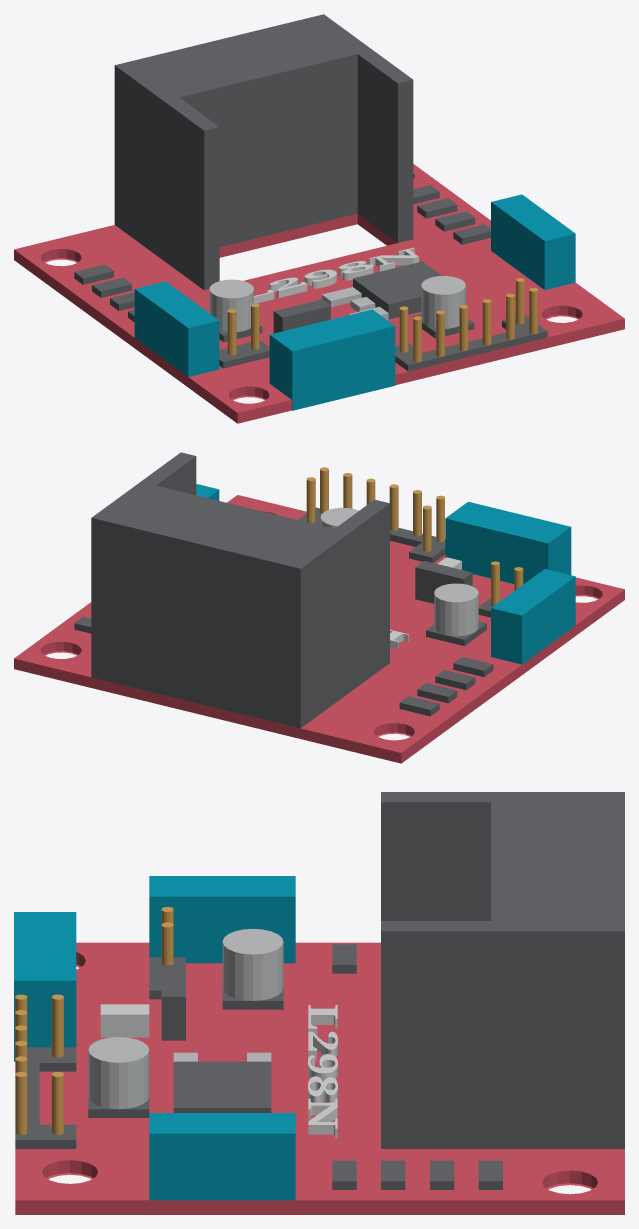
Rendered from motor_drive.glb.
The picture shows the model from 3 angles, top to bottom: view 1: azimuth 30°, elevation 25°; view 2: azimuth 150°, elevation 25°; view 3: azimuth 270°, elevation 25°; orthographic projection. The views are drawn at different scales.
Parts seen in each view (by area): view 1: Mesh_Mesh_head_geo.001_lambert2SG.001; view 2: Mesh_Mesh_head_geo.001_lambert2SG.001; view 3: Mesh_Mesh_head_geo.001_lambert2SG.001.
Part boxes in pixels (x1,y1,x2,y2): Mesh_Mesh_head_geo.001_lambert2SG.001: [14, 14, 624, 423]; Mesh_Mesh_head_geo.001_lambert2SG.001: [14, 452, 624, 763]; Mesh_Mesh_head_geo.001_lambert2SG.001: [14, 792, 624, 1214].
Bounding box in the file's own units: 50 × 21 × 50.1.
